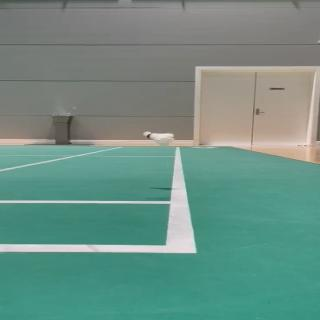Shuttle: (144, 132, 174, 147)
